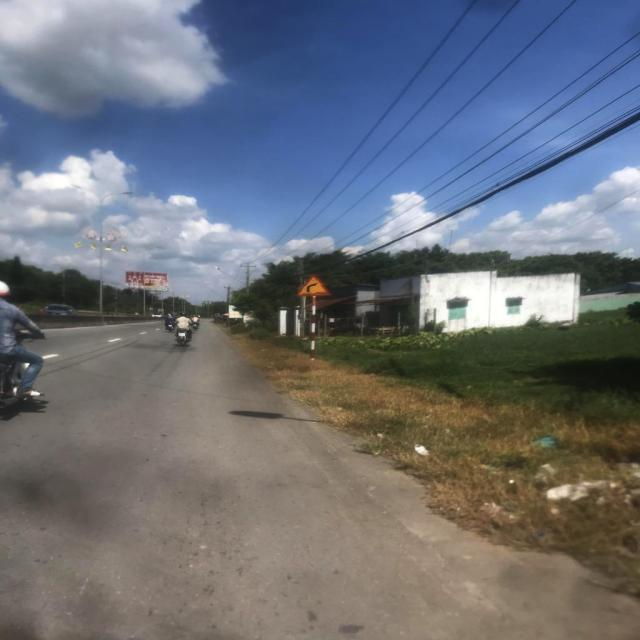201-cho-ngoat-nguy-hiem: (296, 274, 331, 296)
